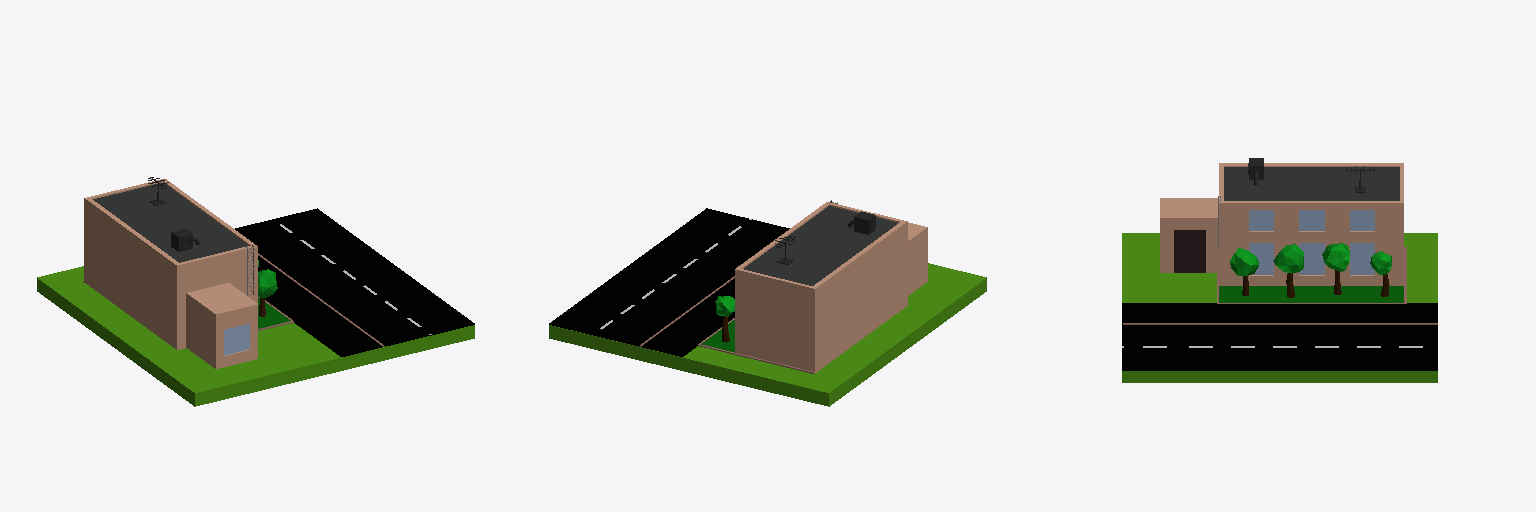
The model's file is building.obj.
The picture shows the model from 3 angles: view 1: azimuth 30°, elevation 25°; view 2: azimuth 150°, elevation 25°; view 3: azimuth 270°, elevation 25°; orthographic projection.
Visible parts, largest first — view 1: Cube, Plane, Cube.007_Cube.011, Cube.006_Cube.010; view 2: Cube, Cube.007_Cube.011, Plane, Cube.006_Cube.010; view 3: Cube, Cube.007_Cube.011, Plane, Cube.006_Cube.010, Cube.003, Icosphere.001, bordure.003_Cube.009, Icosphere.002, Icosphere.
Part boxes in pixels (x1,y1,x2,y2): Cube: (84, 179, 257, 368); Plane: (37, 266, 474, 406); Cube.007_Cube.011: (235, 208, 474, 346); Cube.006_Cube.010: (258, 256, 382, 356); Cube: (735, 202, 927, 372); Cube.007_Cube.011: (549, 208, 789, 346); Plane: (549, 263, 986, 406); Cube.006_Cube.010: (641, 278, 734, 356); Cube: (1160, 163, 1403, 285); Cube.007_Cube.011: (1122, 325, 1437, 370); Plane: (1122, 233, 1437, 382); Cube.006_Cube.010: (1122, 303, 1437, 324); Cube.003: (1219, 286, 1403, 302); Icosphere.001: (1273, 244, 1303, 273); bordure.003_Cube.009: (1123, 323, 1437, 324); Icosphere.002: (1322, 243, 1349, 271); Icosphere: (1230, 248, 1258, 276).
Size of the model in its own units: 6.96 by 2.78 by 6.8.